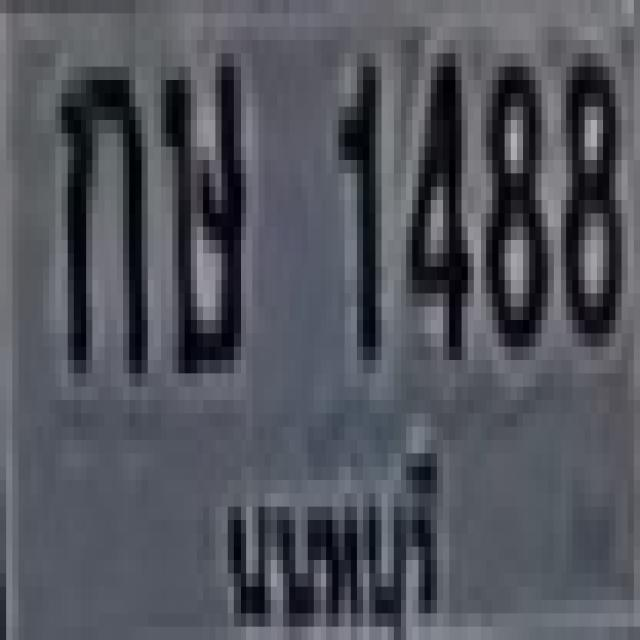1: (338, 53, 382, 360)
4: (406, 47, 473, 353)
8: (484, 55, 545, 348), (564, 43, 620, 336)
A01: (55, 60, 146, 376)
A39: (160, 49, 246, 370)
NBI: (215, 432, 444, 640)
